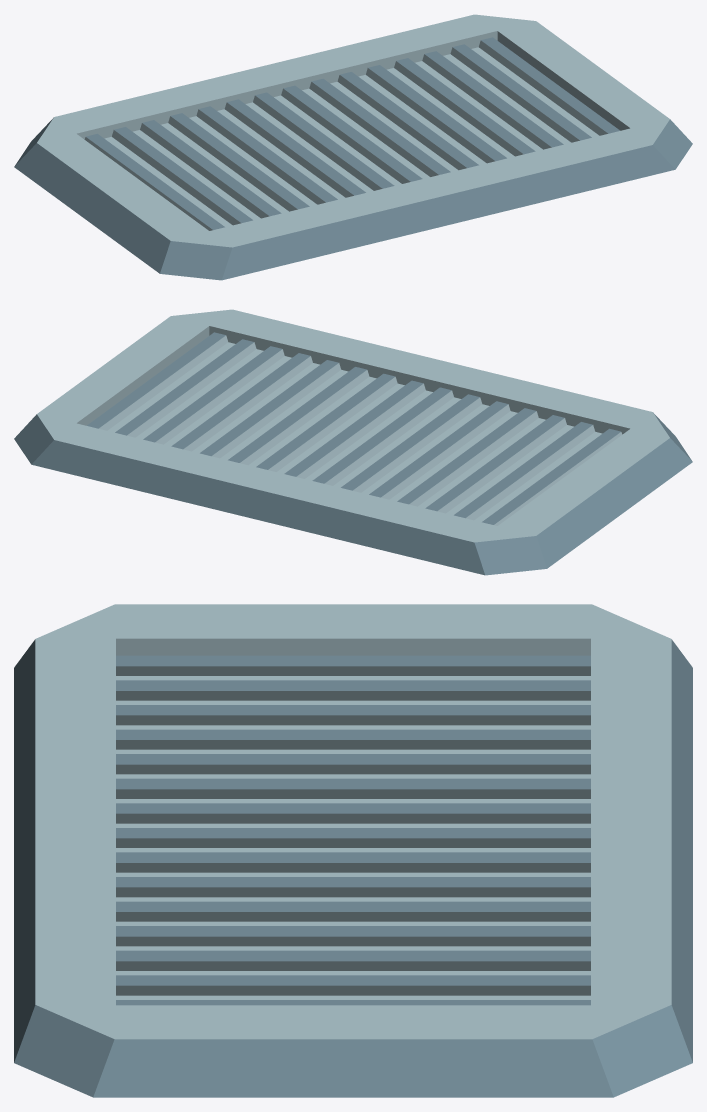
The model's file is q-vent.gltf.
3 views of the same model, one above another, from view 1: azimuth 30°, elevation 25°; view 2: azimuth 150°, elevation 25°; view 3: azimuth 270°, elevation 25° (orthographic). The views are drawn at different scales.
Parts seen in each view (by area): view 1: Prop_Vent_Small; view 2: Prop_Vent_Small; view 3: Prop_Vent_Small.
Boxes of the visible parts, <box> form: Prop_Vent_Small: <box>14,14,692,280</box>; Prop_Vent_Small: <box>14,309,692,575</box>; Prop_Vent_Small: <box>14,604,692,1097</box>.
Bounding box in the file's own units: 1 × 0.0438 × 0.6183.
